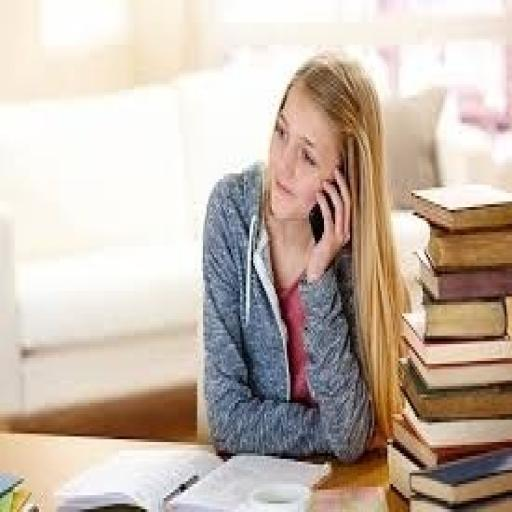calling: (198, 48, 412, 464)
